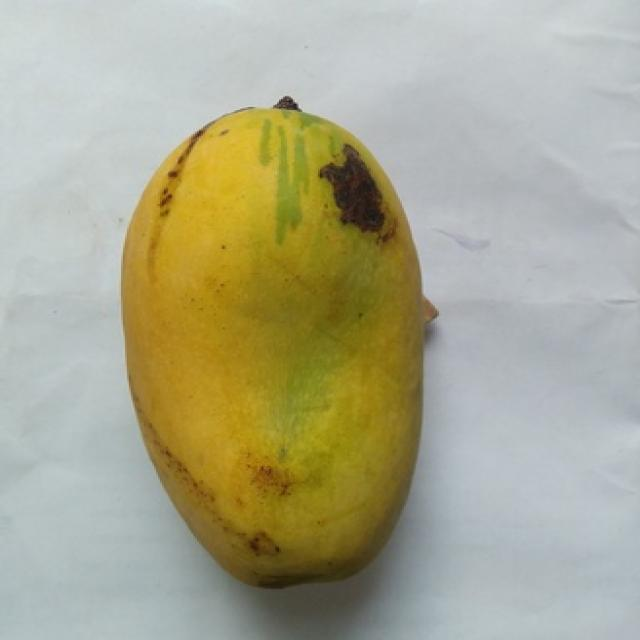Mango: (121, 97, 435, 586)
